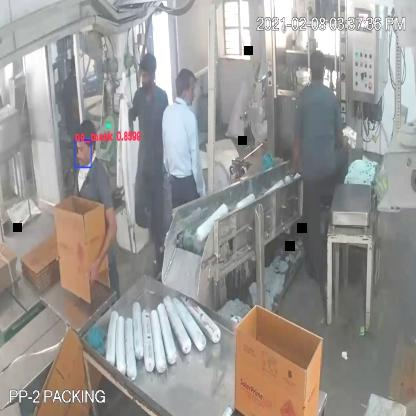no_glove: (81, 198, 119, 280)
